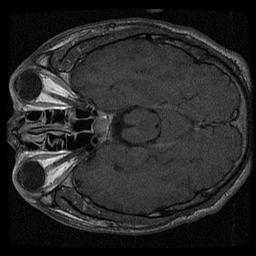pituitary tumour: (90, 111, 112, 143)
